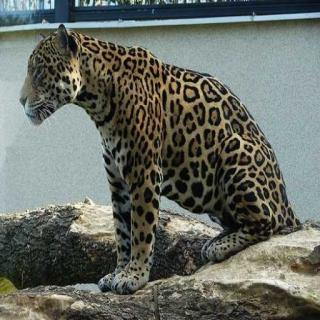Leopard: (30, 15, 308, 294)
